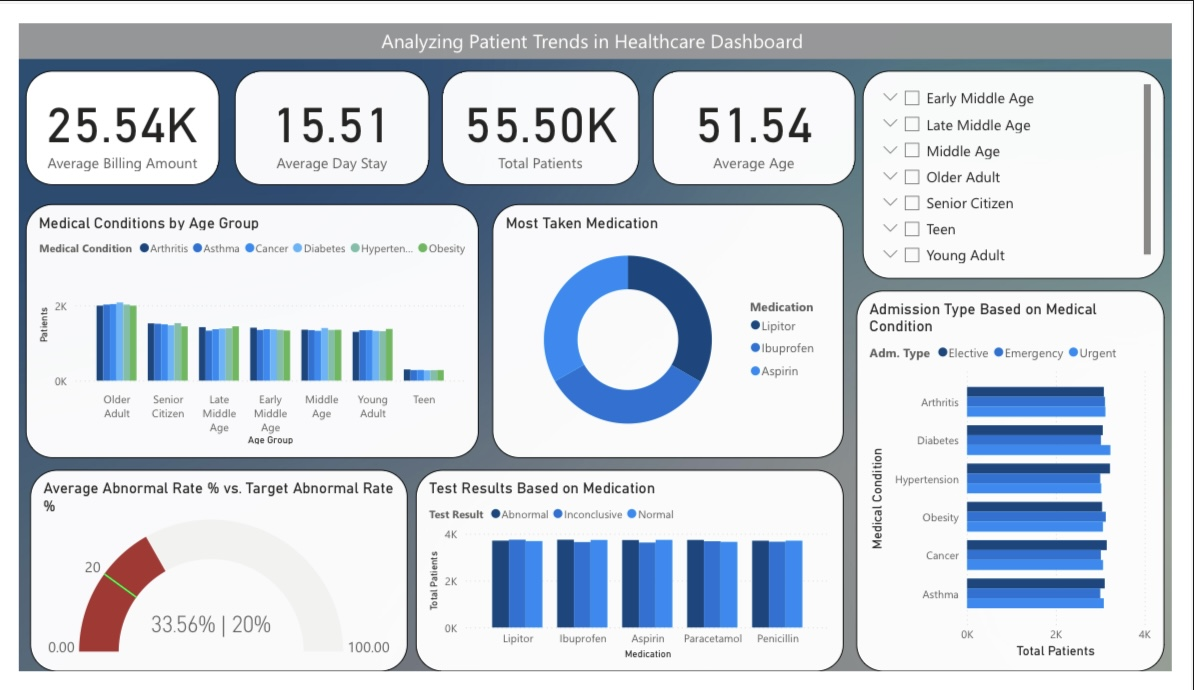

The page's visual inventory and layout, read from the dashboard file:
{"tool":"powerbi","page":{"name":"Page 1","canvas":[1280,720],"ordinal":0},"visuals":[{"type":"card","fields":{"Values":["CountNonNull(healthcare_data_set.name)"]},"box":[469.6,53,219.6,126.9],"z":0},{"type":"card","fields":{"Values":["Avg(healthcare_data_set.billing_amount)"]},"box":[7.6,53,215.9,126.9],"z":1000},{"type":"card","fields":{"Values":["healthcare_data_set.Average Stay Length"]},"box":[240.5,53,215.9,126.9],"z":2000},{"type":"card","fields":{"Values":["healthcare_data_set.Average Age"]},"box":[703.8,52.5,225,127.5],"z":3000},{"type":"textbox","box":[0,0,1280,39.8],"z":4000},{"type":"clusteredColumnChart","title":"Medical Conditions by Age Group","fields":{"Category":["healthcare_data_set.age_group"],"Y":["CountNonNull(healthcare_data_set.name)"],"Series":["healthcare_data_set.medical_condition"]},"box":[7.6,200.7,503.7,282.1],"z":5000},{"type":"slicer","fields":{"Values":["healthcare_data_set.age_group","healthcare_data_set.gender","healthcare_data_set.medical_condition","healthcare_data_set.medication","healthcare_data_set.test_result","healthcare_data_set.admission_type","healthcare_data_set.billing_amount"]},"box":[937.3,53,335.1,231],"z":6000},{"type":"clusteredColumnChart","title":"Test Results Based on Medication","fields":{"Category":["healthcare_data_set.medication"],"Series":["healthcare_data_set.test_result"],"Y":["healthcare_data_set.Total Patients"]},"box":[441.2,496.1,475.3,223.4],"z":7000},{"type":"donutChart","title":"Most Taken Medication","fields":{"Y":["healthcare_data_set.Total Patients"],"Category":["healthcare_data_set.medication"]},"box":[526.4,200.7,390.1,282.1],"z":8000},{"type":"clusteredBarChart","title":"Admission Type Based on Medical Condition","fields":{"Series":["healthcare_data_set.admission_type"],"Y":["healthcare_data_set.Total Patients"],"Category":["healthcare_data_set.medical_condition"]},"box":[929.7,297.3,342.7,422.2],"z":9000},{"type":"gauge","title":"Average Abnormal Rate % vs. Target Abnormal Rate %","fields":{"Y":["healthcare_data_set.Abnormal Rate %"],"TargetValue":["healthcare_data_set.Target Abnormal Rate %"]},"box":[13.3,496.1,418.5,223.4],"z":10000}]}

Visuals, with their boxes in screenshot pixels (x1, y1, x2, y2), scaled from the page's 1280x720 canvas onto the 1194x690 screenshot:
card - CountNonNull(healthcare_data_set.name): 438,51,643,172
card - Avg(healthcare_data_set.billing_amount): 7,51,208,172
card - healthcare_data_set.Average Stay Length: 224,51,426,172
card - healthcare_data_set.Average Age: 657,50,866,172
textbox: 0,0,1193,38
"Medical Conditions by Age Group" clusteredColumnChart: 7,192,477,463
slicer - healthcare_data_set.age_group x healthcare_data_set.gender: 874,51,1187,272
"Test Results Based on Medication" clusteredColumnChart: 412,475,855,689
"Most Taken Medication" donutChart: 491,192,855,463
"Admission Type Based on Medical Condition" clusteredBarChart: 867,285,1187,689
"Average Abnormal Rate % vs. Target Abnormal Rate %" gauge: 12,475,403,689
